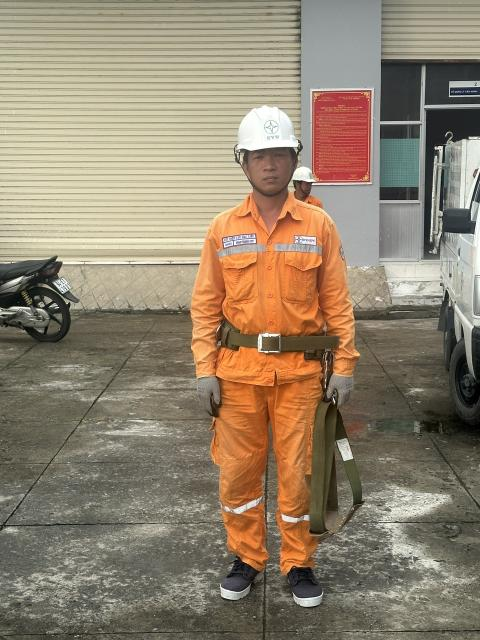gloves: (191, 362, 232, 430), (322, 359, 367, 407)
harness: (194, 313, 328, 369)
helmet: (233, 103, 309, 155), (294, 163, 331, 187)
shoes: (208, 551, 265, 603), (282, 559, 329, 613)
